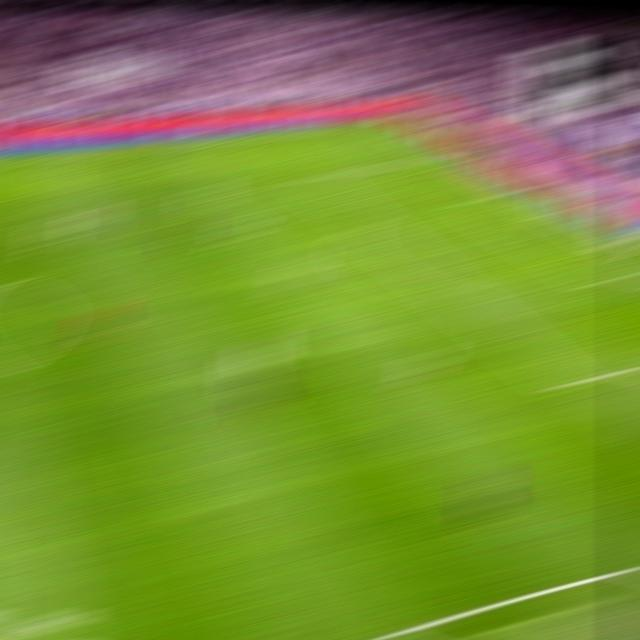bigarea_bottom_inner: (549, 372, 583, 393)
bigarea_top_inner: (295, 172, 323, 181)
bigarea_top_outter: (442, 151, 470, 158)
bottom_arc_area_intersection: (436, 283, 469, 301)
corner: (379, 117, 410, 122)
smallarea_bottom_inner: (587, 272, 618, 287)
smallarea_top_inner: (456, 196, 483, 202)
top_arc_area_intersection: (350, 215, 380, 228)
